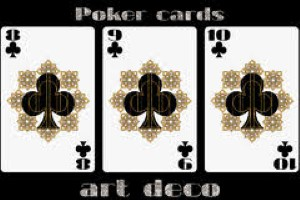NineOfClubs: (103, 24, 199, 174)
